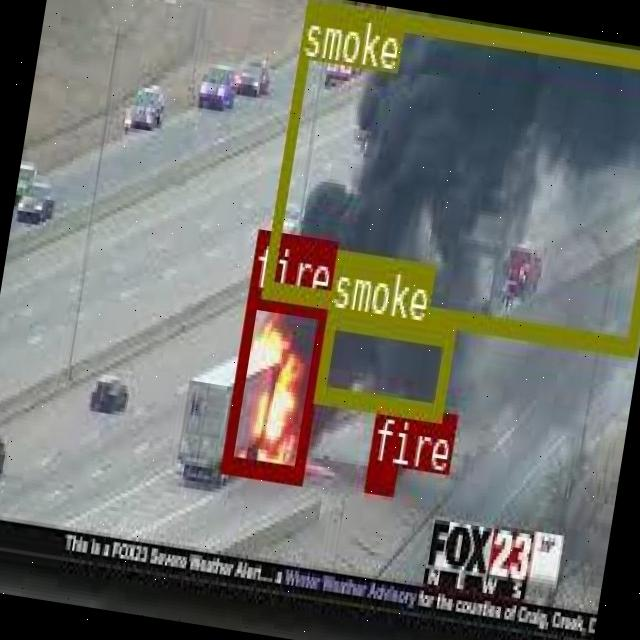fire: (221, 290, 328, 478), (362, 462, 395, 492)
smoke: (260, 0, 640, 351), (314, 307, 454, 420)
